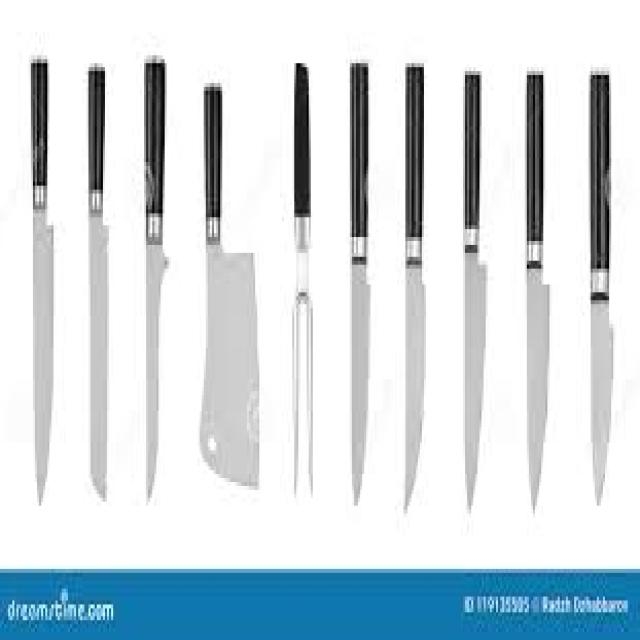Knife: (198, 79, 259, 486), (142, 51, 167, 498), (29, 55, 53, 502), (461, 67, 484, 510), (290, 59, 313, 494), (525, 67, 547, 510), (589, 67, 611, 502), (403, 59, 424, 510), (86, 59, 107, 498), (348, 59, 368, 502)
